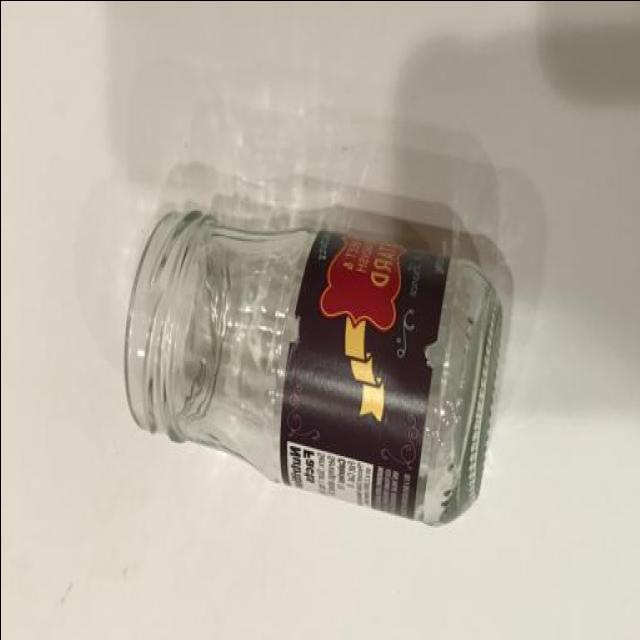glass: (76, 172, 532, 534)
